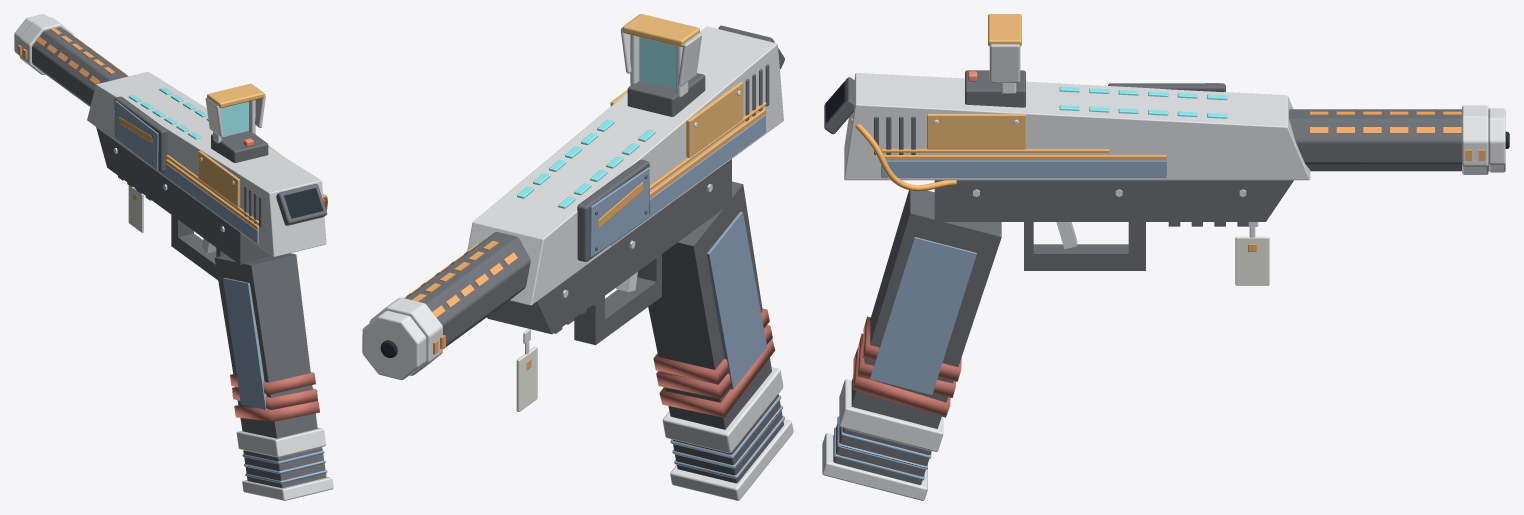
The model's file is smart_pistol_t3.glb.
3 renders of one model, left to right at view 1: azimuth 30°, elevation 25°; view 2: azimuth 150°, elevation 25°; view 3: azimuth 270°, elevation 25°, orthographic. The views are drawn at different scales.
Parts seen in each view (by area): view 1: Frame, Slide, MagBase, Shroud, HoloSight, Details, TrackerGlass, Vents, TrackerScreen, AmmoGlass, HoloGlass, AmmoScreen (+1 smaller); view 2: Frame, Slide, Shroud, MagBase, HoloSight, Details, TrackerGlass, HoloGlass, TrackerScreen, Vents, CharmTag; view 3: Slide, Frame, Shroud, MagBase, Details, HoloSight, CharmTag, Vents, AmmoScreen, TrackerScreen.
Boxes of the visible parts, box(x1,y1,x2,y2) form: Frame: box(96, 127, 317, 438); Slide: box(87, 71, 326, 256); MagBase: box(236, 427, 333, 500); Shroud: box(14, 14, 127, 106); HoloSight: box(205, 83, 268, 162); Details: box(113, 148, 327, 421); TrackerGlass: box(114, 100, 158, 170); Vents: box(17, 28, 128, 84); TrackerScreen: box(114, 96, 167, 171); AmmoGlass: box(284, 188, 323, 218); HoloGlass: box(221, 101, 248, 136); AmmoScreen: box(276, 184, 327, 225); Frame: box(487, 159, 771, 429); Slide: box(467, 26, 783, 305); Shroud: box(362, 232, 530, 380); MagBase: box(662, 367, 793, 500); HoloSight: box(620, 14, 705, 116); Details: box(562, 184, 775, 417); TrackerGlass: box(590, 167, 649, 257); HoloGlass: box(639, 37, 676, 89); TrackerScreen: box(577, 159, 649, 261); Vents: box(404, 241, 517, 354); CharmTag: box(516, 329, 537, 411); Slide: box(844, 73, 1310, 180); Frame: box(851, 180, 1293, 428); Shroud: box(1289, 105, 1509, 174); MagBase: box(822, 379, 943, 500); Details: box(850, 118, 1246, 417); HoloSight: box(965, 14, 1025, 107); CharmTag: box(1235, 222, 1269, 285); Vents: box(1310, 111, 1485, 160); AmmoScreen: box(824, 77, 854, 134); TrackerScreen: box(1108, 83, 1225, 92).
Bounding box in the file's own units: 0.0592 × 0.2664 × 0.3609.
